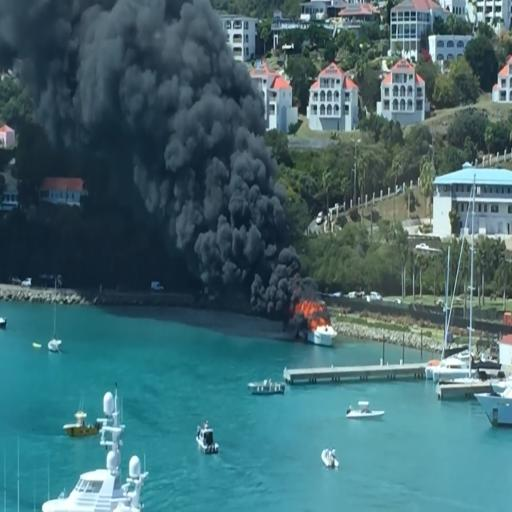smoke: (122, 14, 230, 193), (134, 82, 252, 216), (196, 153, 271, 279)
